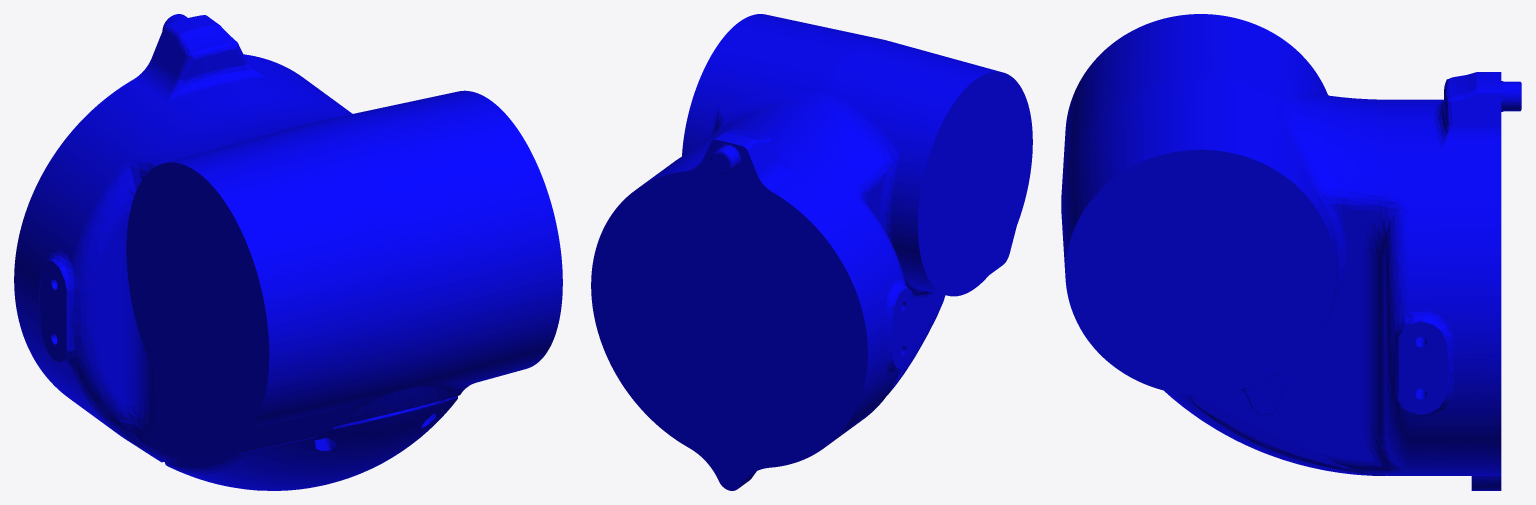
The model's file is yaskawa_link_1_s_visual_vis_1.dae.
3 views of the same model, side by side, from view 1: azimuth 30°, elevation 25°; view 2: azimuth 150°, elevation 25°; view 3: azimuth 270°, elevation 25° (orthographic). The views are drawn at different scales.
Visible parts, largest first — view 1: node; view 2: node; view 3: node.
Boxes of the visible parts, x1=… form: node: x1=14, y1=14, x2=562, y2=490; node: x1=591, y1=14, x2=1032, y2=490; node: x1=1061, y1=14, x2=1521, y2=490.
Bounding box in the file's own units: 0.166 × 0.1978 × 0.2007.
